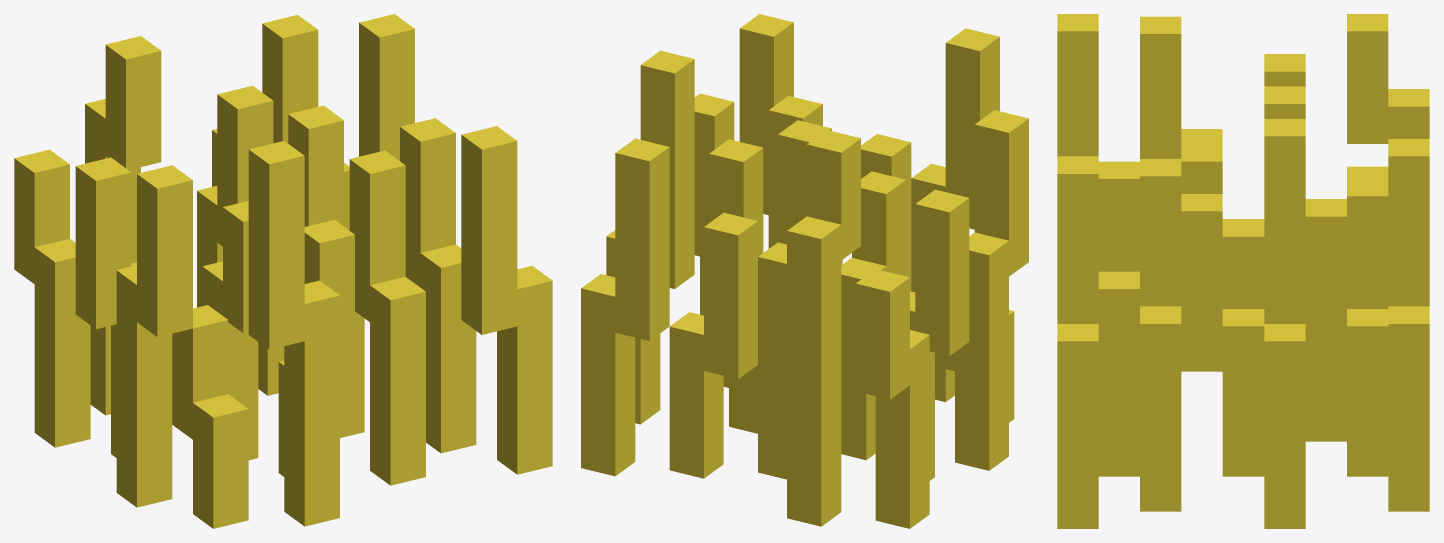
The model's file is wheat.dae.
3 renders of one model, left to right at view 1: azimuth 30°, elevation 25°; view 2: azimuth 150°, elevation 25°; view 3: azimuth 270°, elevation 25°, orthographic. The views are drawn at different scales.
Parts seen in each view (by area): view 1: wheat; view 2: wheat; view 3: wheat.
Part boxes in pixels (left/top/right/bottom): wheat: left=14, top=14, right=552, bottom=528; wheat: left=581, top=14, right=1028, bottom=528; wheat: left=1057, top=14, right=1429, bottom=528.
Size of the model in its own units: 1 by 1 by 0.9.
Materials: 1 (1 with a texture image).
